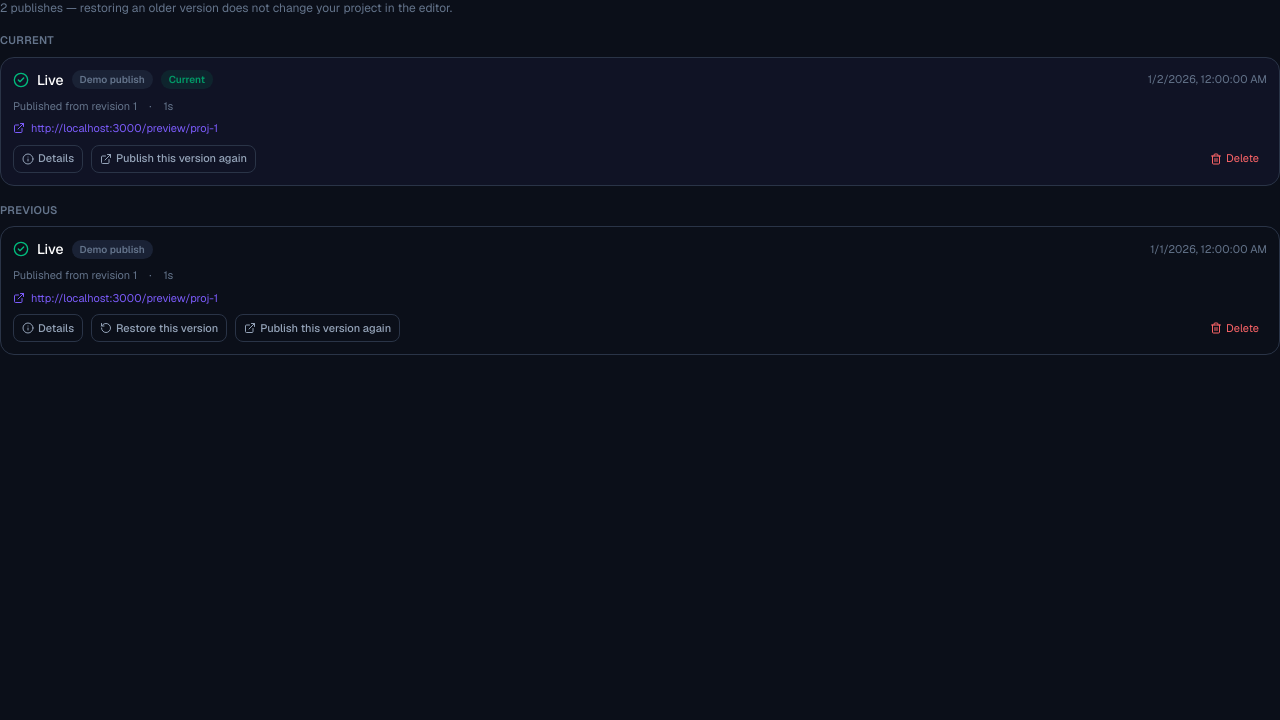
DeploymentHistory — rollback › shows an error when the provider cannot restore the version
Click the button with test id "deployment-rollback" at (159, 328), box [91, 314, 227, 342]
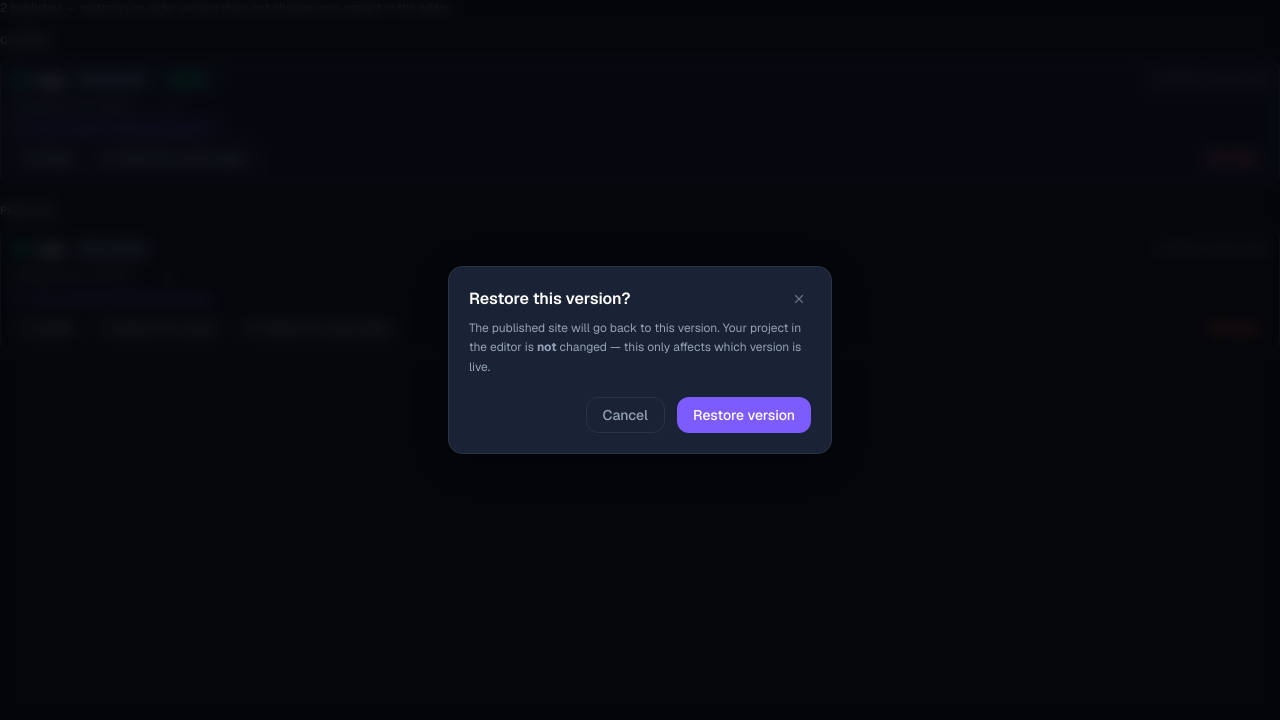
Click the button with test id "rollback-confirm" at (744, 415), box [677, 397, 811, 433]
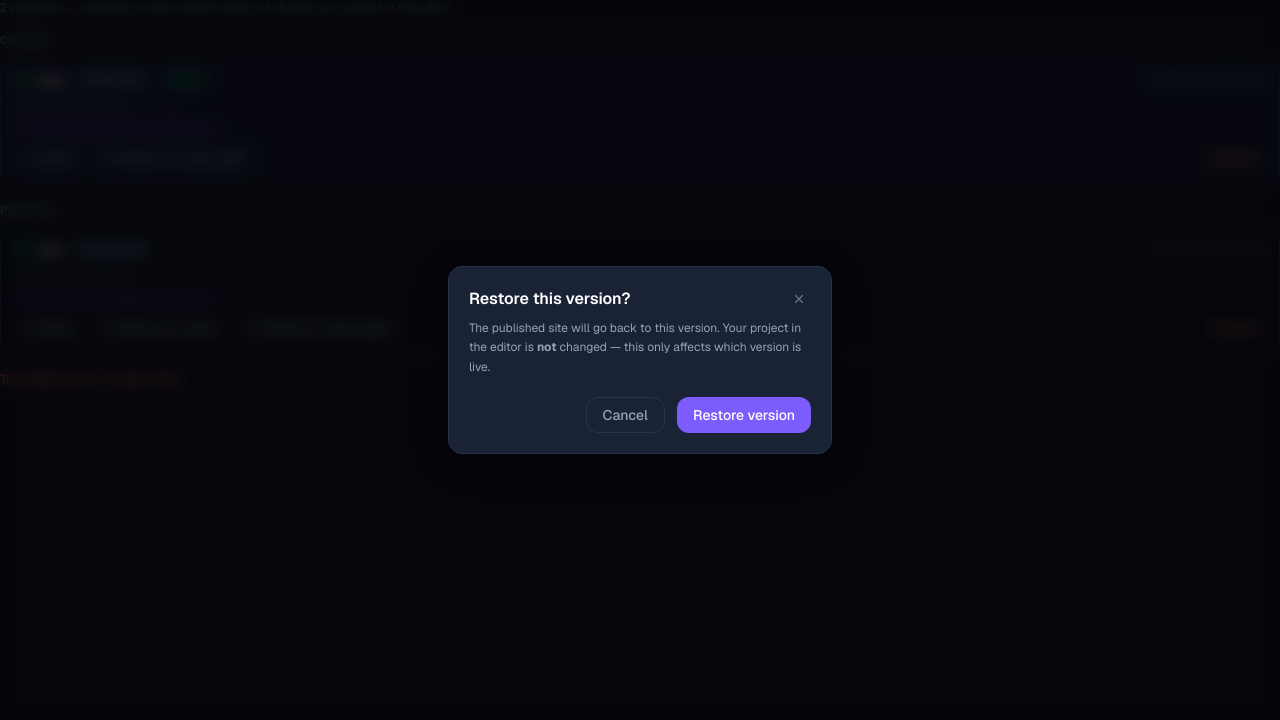
expect the text "That deployment no longer exists." is shown: met, box [0, 371, 184, 387]
